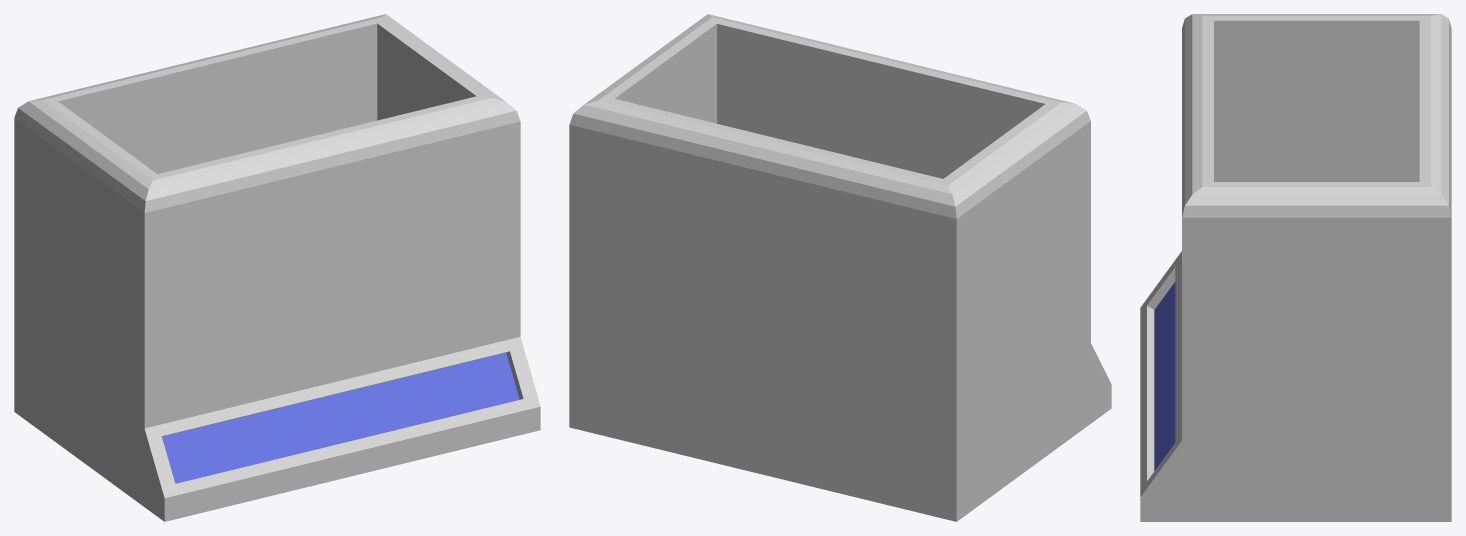
The picture shows the model from 3 angles, left to right: view 1: azimuth 30°, elevation 25°; view 2: azimuth 150°, elevation 25°; view 3: azimuth 270°, elevation 25°; orthographic projection. The views are drawn at different scales.
Visible parts, largest first — view 1: SP-4; view 2: SP-4; view 3: SP-4.
Boxes of the visible parts, x1,y1,x2,y2 form: SP-4: (14,14,540,521); SP-4: (569,14,1111,521); SP-4: (1140,14,1451,521).
Bounding box in the file's own units: 50 × 40 × 34.64.
